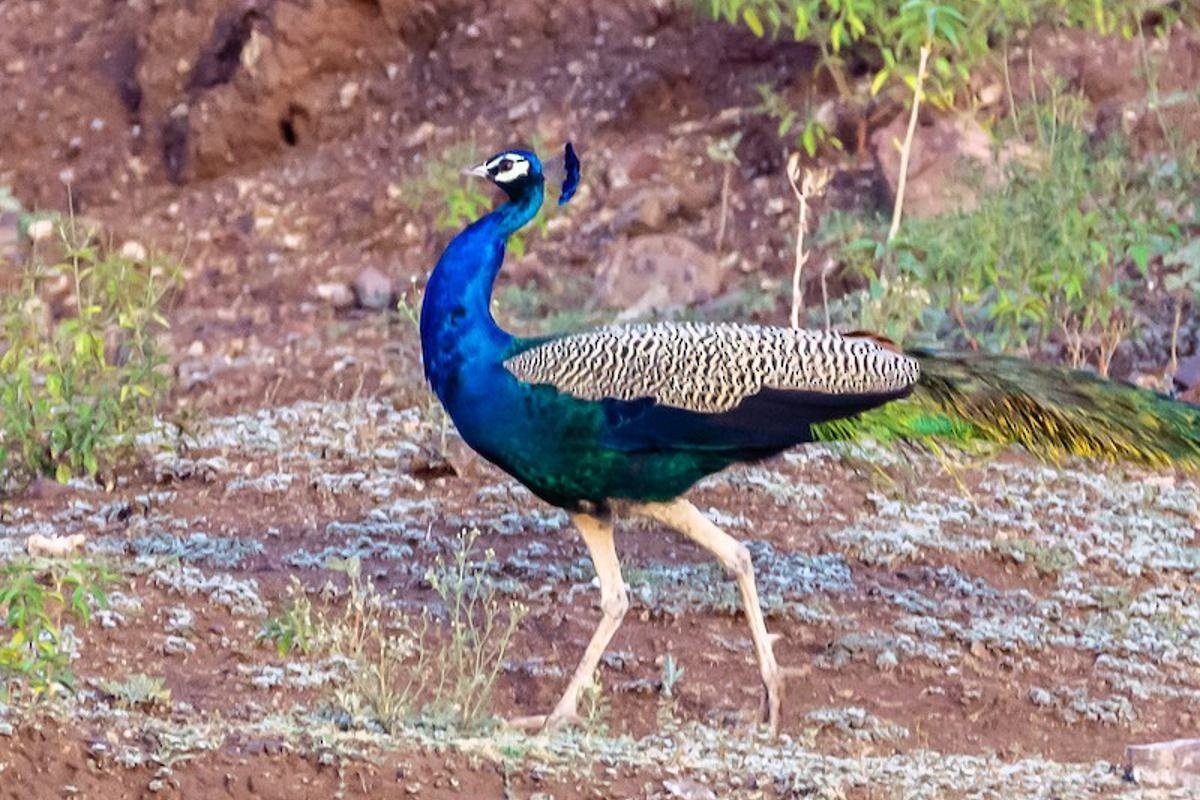peacock: (404, 120, 1040, 696)
